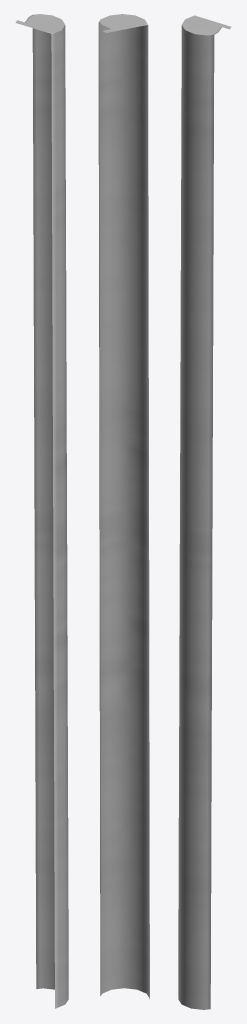
The model's file is Fence_rod.fbx.
3 views of the same model, side by side, from view 1: azimuth 90°, elevation 25°; view 2: azimuth 150°, elevation 25°; view 3: azimuth 270°, elevation 25° (orthographic).
Visible parts, largest first — view 1: Fence_Rod; view 2: Fence_Rod; view 3: Fence_Rod.
Part boxes in pixels (<box>): Fence_Rod: <box>15,14,68,1008</box>; Fence_Rod: <box>98,14,149,998</box>; Fence_Rod: <box>178,15,231,1009</box>.
Bounding box in the file's own units: 0.062 × 1.3 × 0.0663.
